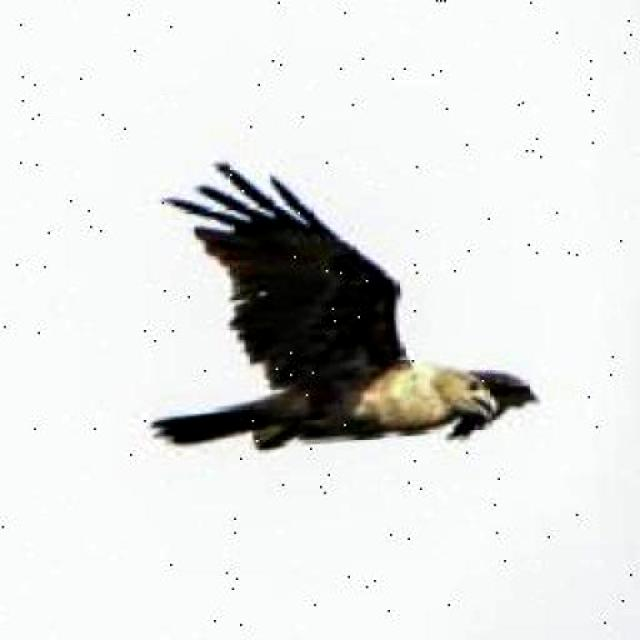airplane: (129, 130, 545, 468)
